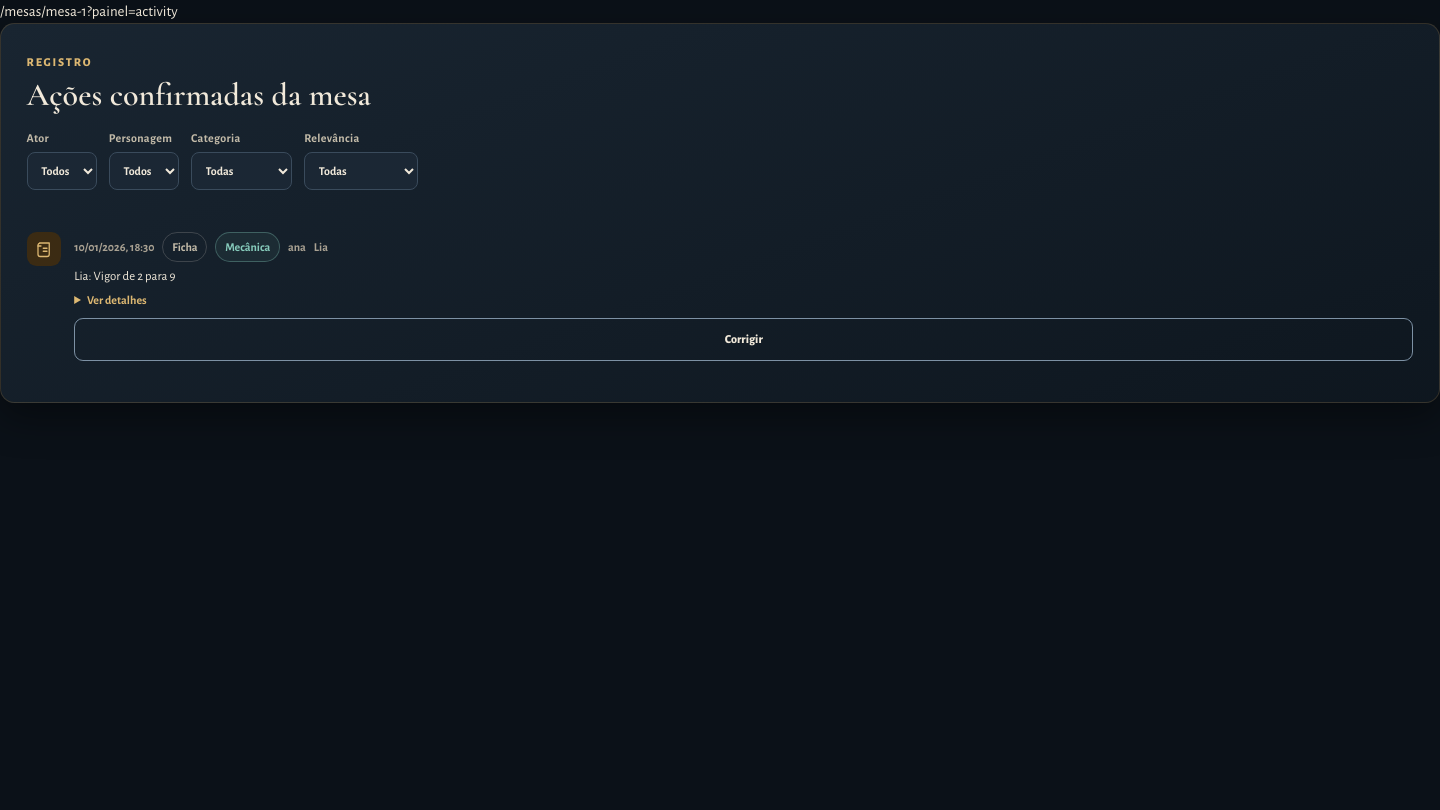
Test: AuditLog — 7.4/7.5/7.6 registro de auditoria › Narrador corrige um evento com sucesso: POST com motivo e versão, timeline recarregada e vínculo exibido
expect the text "Lia: Vigor de 2 para 9" is shown: met, box [74, 270, 176, 283]
Step 1. Click the button "Corrigir" → [744, 339], box [74, 318, 1413, 361]
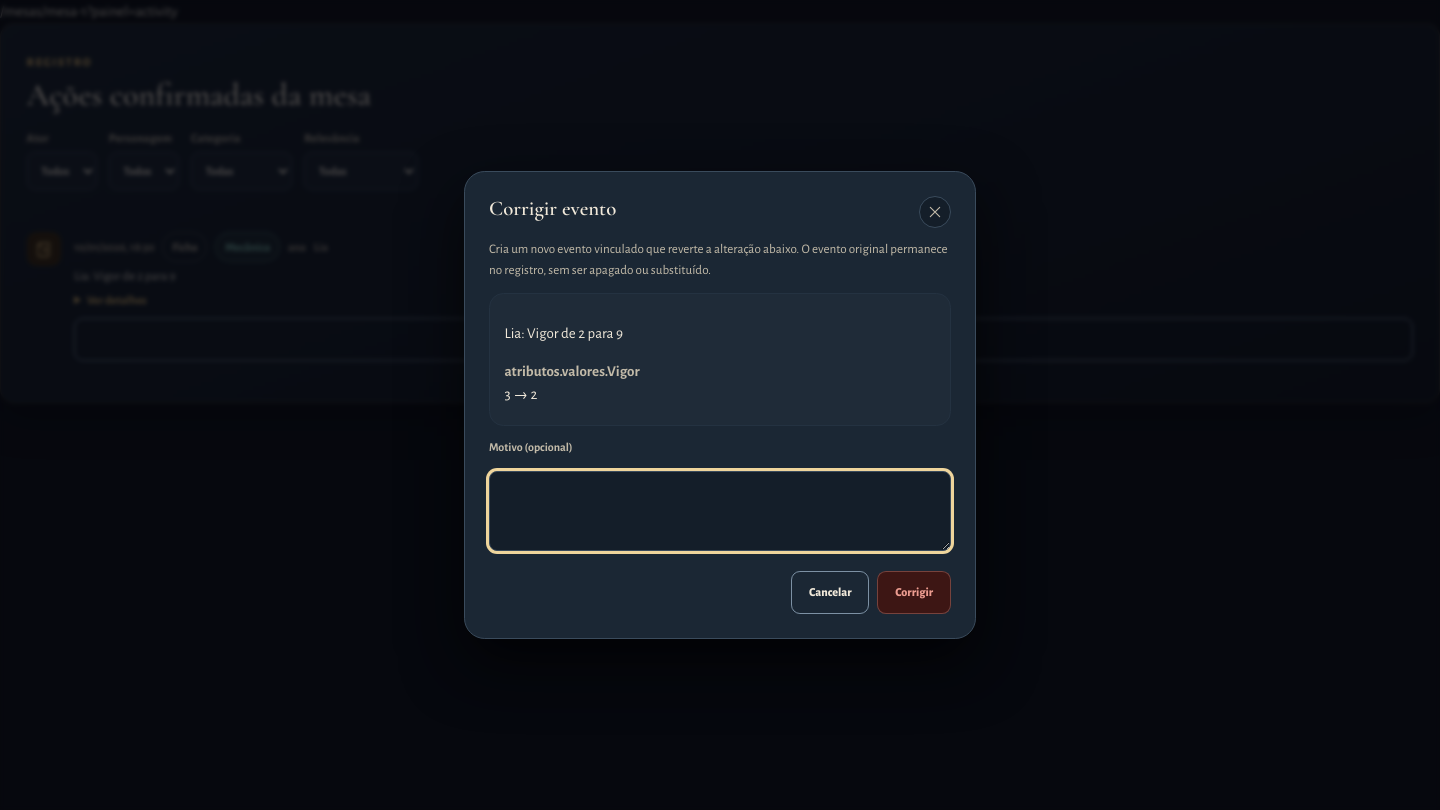
Step 2. Type "Valor digitado errado" into the text box labelled "Motivo (opcional)" → [720, 511], box [489, 471, 951, 551]
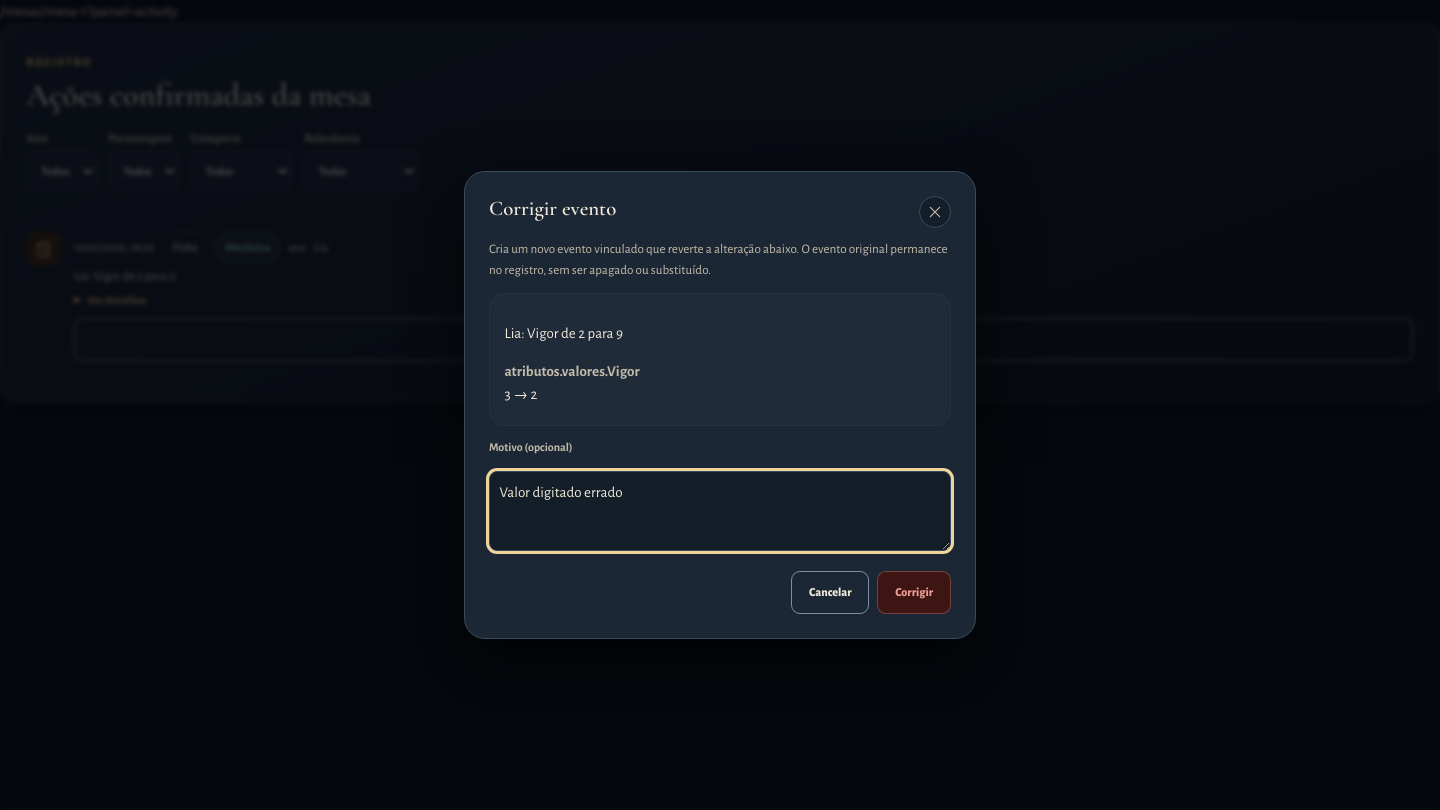
Step 3. Click the button "Corrigir" → [914, 592], box [878, 571, 951, 614]
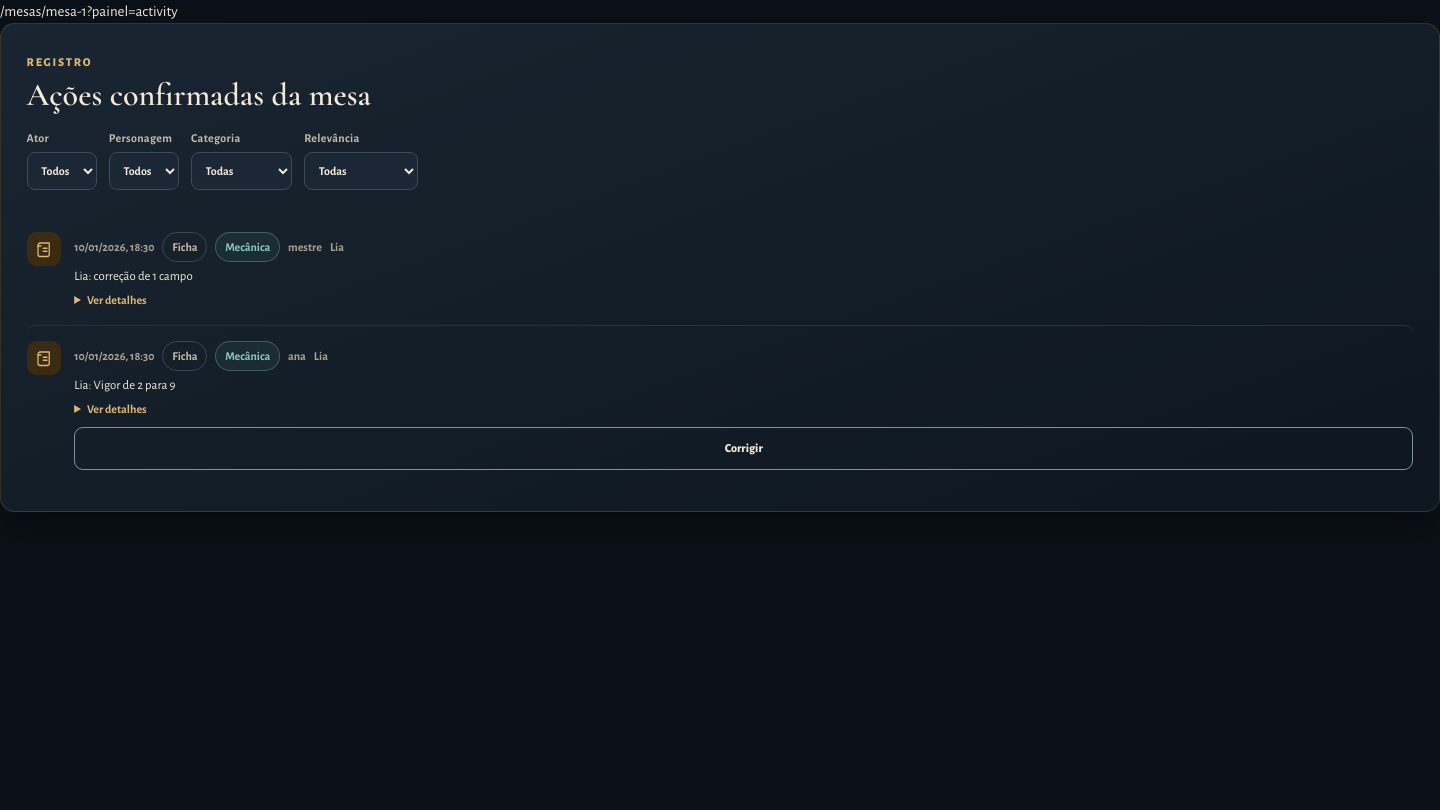
expect the dialog is gone: met
expect the text "Lia: correção de 1 campo" is shown: met, box [74, 270, 193, 283]
Step 4. Click the heading "Ver detalhes" below "Lia: Vigor de 2 para 9" → [117, 409], box [87, 403, 147, 415]
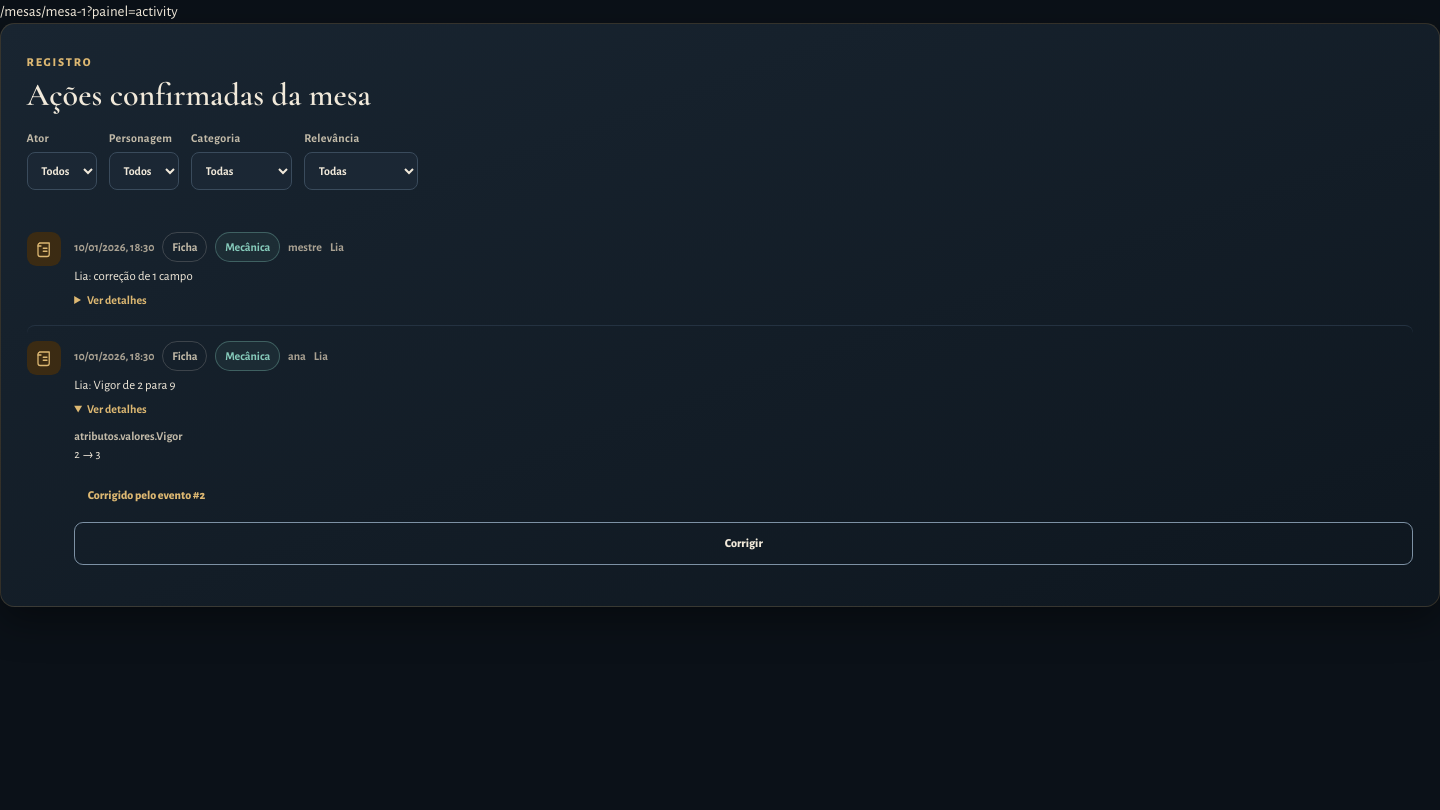
expect the button "Corrigido pelo evento #2" is shown: met, box [74, 478, 219, 514]
